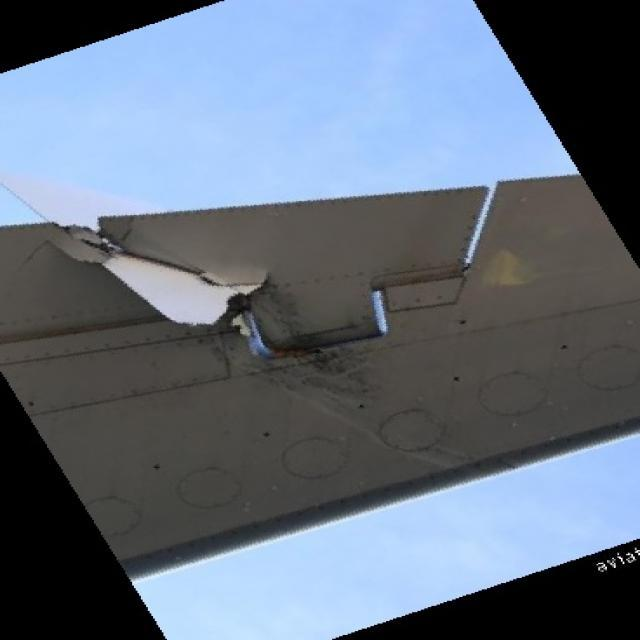crack: (13, 232, 286, 335)
